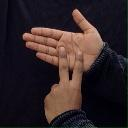hand: (22, 8, 104, 75), (43, 46, 83, 122)
